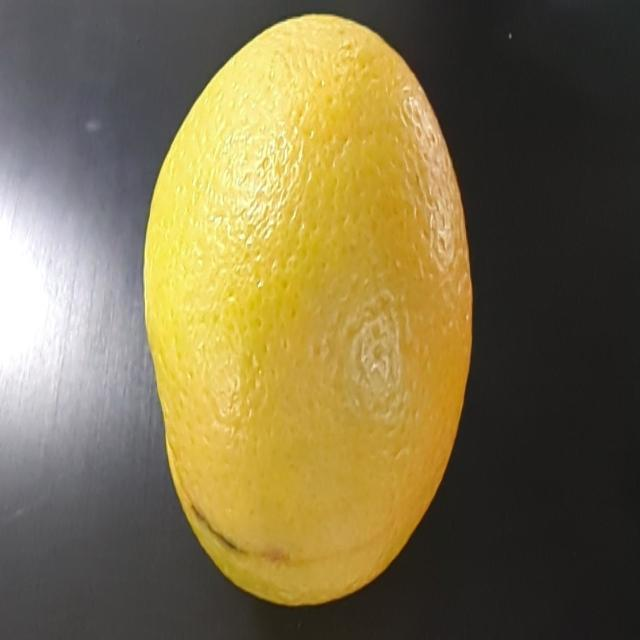Jeruk: (143, 15, 479, 640)
